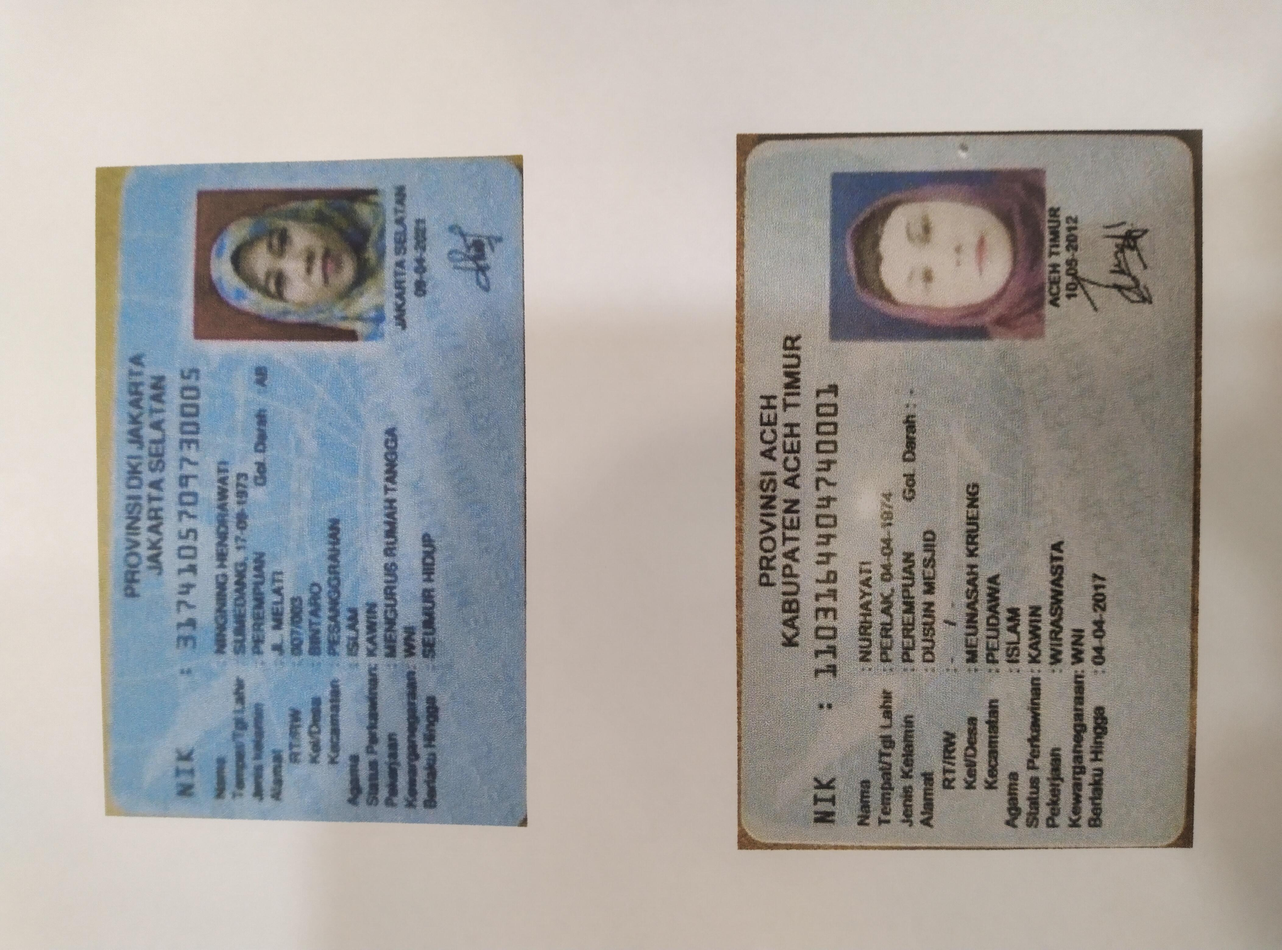ID-card: (135, 547, 1090, 882), (177, 85, 1056, 378)
